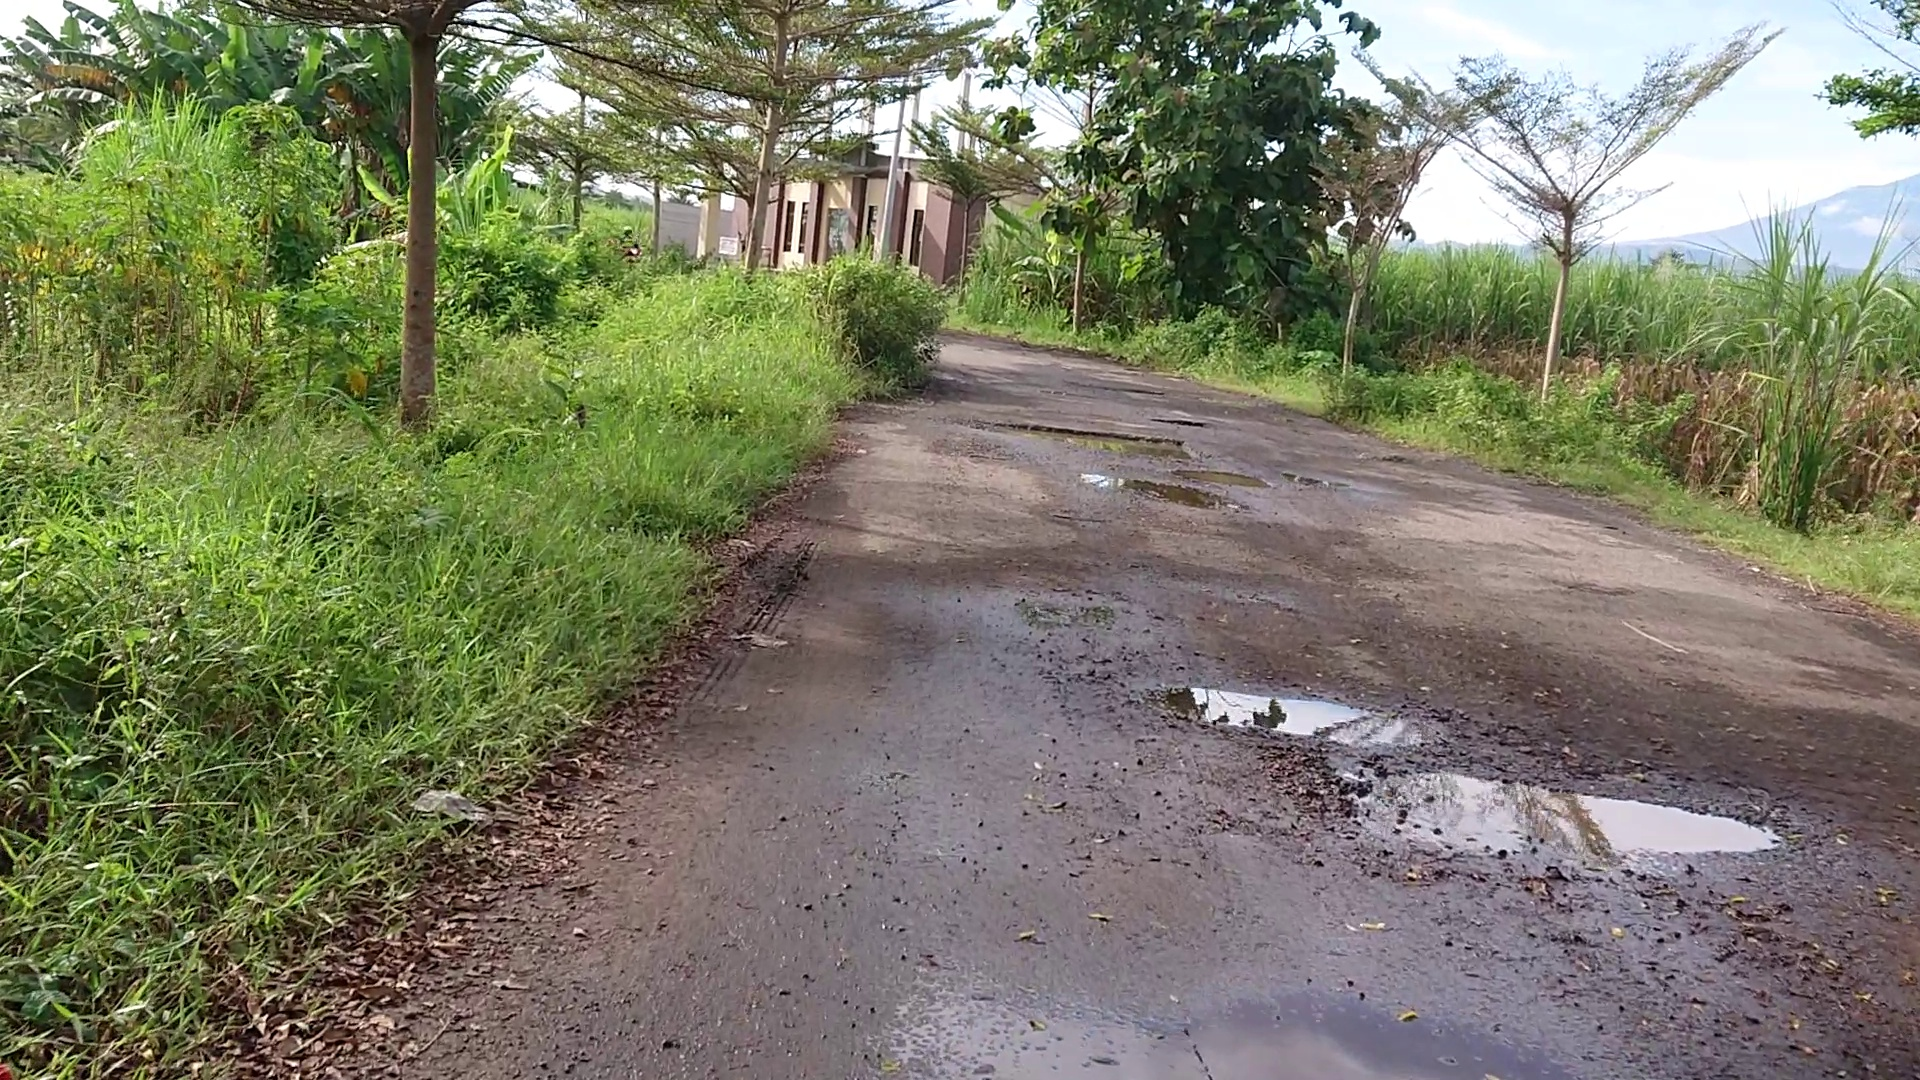Berlubang: (1216, 684, 1767, 866), (1075, 429, 1276, 512)
